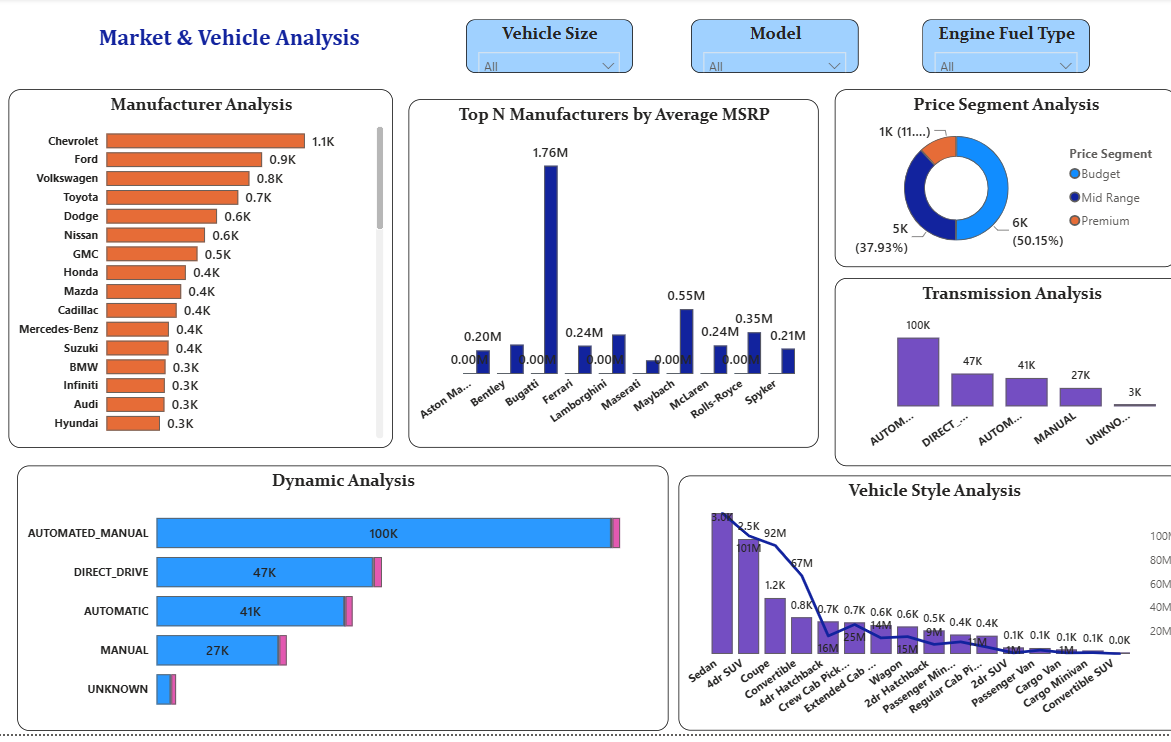

What the dashboard file says about the page in this screenshot:
{"tool":"powerbi","page":{"name":"Market    & Vehicle  Analysis","canvas":[1301,801],"ordinal":1},"visuals":[{"type":"textbox","box":[58.6,23.7,390.5,61.4],"z":0},{"type":"slicer","title":"Vehicle Size","fields":{"Values":["public car_sales.vehicle_size"]},"box":[511.9,23.7,181.3,58.6],"z":2000},{"type":"clusteredBarChart","title":"Manufacturer Analysis","fields":{"Category":["public car_sales.make"],"Y":["Measure Table.Total Vehicles"]},"box":[13.9,99,418.4,390.5],"z":3000},{"type":"clusteredColumnChart","title":"Transmission  Analysis","fields":{"Category":["public car_sales.transmission_type"],"Y":["Measure Table.Avg MSRP"]},"box":[912.2,304.1,384.9,205],"z":4000},{"type":"donutChart","title":"Price Segment Analysis","fields":{"Category":["public car_sales.Price Segment"],"Y":["Measure Table.Total Vehicles"]},"box":[912.2,99,372.4,193.9],"z":5000},{"type":"lineStackedColumnComboChart","title":" Vehicle Style Analysis","fields":{"Category":["public car_sales.vehicle_style"],"Y":["Measure Table.Total Vehicles"],"Y2":["Measure Table.Total MSRP"]},"box":[743.4,520.2,556.5,277.6],"z":6000},{"type":"barChart","title":"Dynamic Analysis","fields":{"Category":["public car_sales.make","public car_sales.model","public car_sales.year","public car_sales.transmission_type","public car_sales.vehicle_style","public car_sales.vehicle_size"],"Y":["Measure Table.Avg MSRP","Measure Table.Avg Engine HP","Measure Table.Avg City MPG","Measure Table.Avg Highway MPG","Measure Table.Avg Popularity"]},"box":[23.7,509.1,708.5,288.7],"z":7000},{"type":"clusteredColumnChart","title":"Top N Manufacturers by Average MSRP","fields":{"Category":["public car_sales.make"],"Y":["Measure Table.Top N Make Flag","Measure Table.Avg MSRP"]},"box":[449.1,110.2,446.3,379.4],"z":9000},{"type":"slicer","title":"Model","fields":{"Values":["public car_sales.model"]},"box":[755.9,23.7,182.7,58.6],"z":9001},{"type":"slicer","title":"Engine Fuel  Type","fields":{"Values":["public car_sales.engine_fuel_type"]},"box":[1008.4,23.7,182.7,58.6],"z":9002}]}

Visuals, with their boxes in screenshot pixels (x1, y1, x2, y2), scaled from the page's 1301x801 canvas onto the 1171x742 screenshot:
textbox: left=53, top=22, right=404, bottom=79
"Vehicle Size" slicer: left=461, top=22, right=624, bottom=76
"Manufacturer Analysis" clusteredBarChart: left=13, top=92, right=389, bottom=453
"Transmission  Analysis" clusteredColumnChart: left=821, top=282, right=1167, bottom=472
"Price Segment Analysis" donutChart: left=821, top=92, right=1156, bottom=271
" Vehicle Style Analysis" lineStackedColumnComboChart: left=669, top=482, right=1170, bottom=739
"Dynamic Analysis" barChart: left=21, top=472, right=659, bottom=739
"Top N Manufacturers by Average MSRP" clusteredColumnChart: left=404, top=102, right=806, bottom=454
"Model" slicer: left=680, top=22, right=845, bottom=76
"Engine Fuel  Type" slicer: left=908, top=22, right=1072, bottom=76
